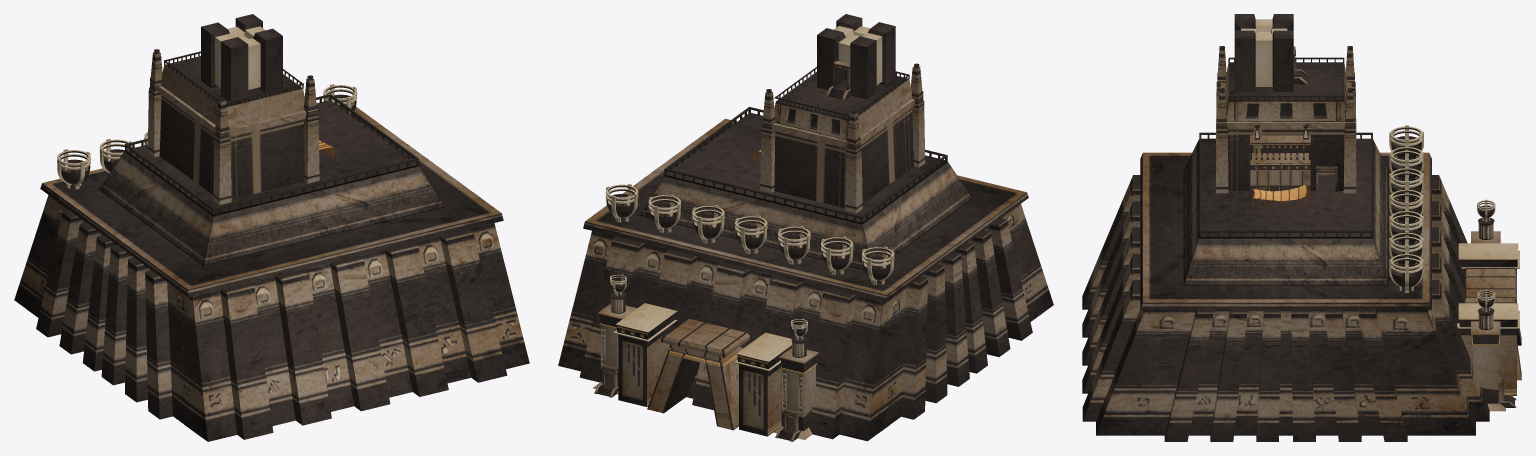
The model's file is Tempel_neu.fbx.
3 views of the same model, side by side, from view 1: azimuth 30°, elevation 25°; view 2: azimuth 150°, elevation 25°; view 3: azimuth 270°, elevation 25° (orthographic). The views are drawn at different scales.
Parts seen in each view (by area): view 1: pCube556, polySurface115; view 2: pCube556, polySurface115; view 3: pCube556, polySurface115, polySurface282.
Boxes of the visible parts, x1,y1,x2,y2 form: pCube556: (14,14,529,441); polySurface115: (57,49,357,189); pCube556: (558,14,1053,441); polySurface115: (605,63,919,357); pCube556: (1082,14,1521,441); polySurface115: (1219,46,1495,330); polySurface282: (1252,184,1307,208).
Bounding box in the file's own units: 32.22 × 28.21 × 35.89.
